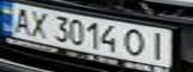0: (66, 17, 84, 46)
1: (81, 19, 103, 49)
3: (48, 14, 72, 43)
4: (100, 22, 121, 54)
A: (6, 4, 36, 34)
I: (145, 29, 172, 61)
O: (121, 27, 151, 57)
X: (24, 9, 54, 39)
